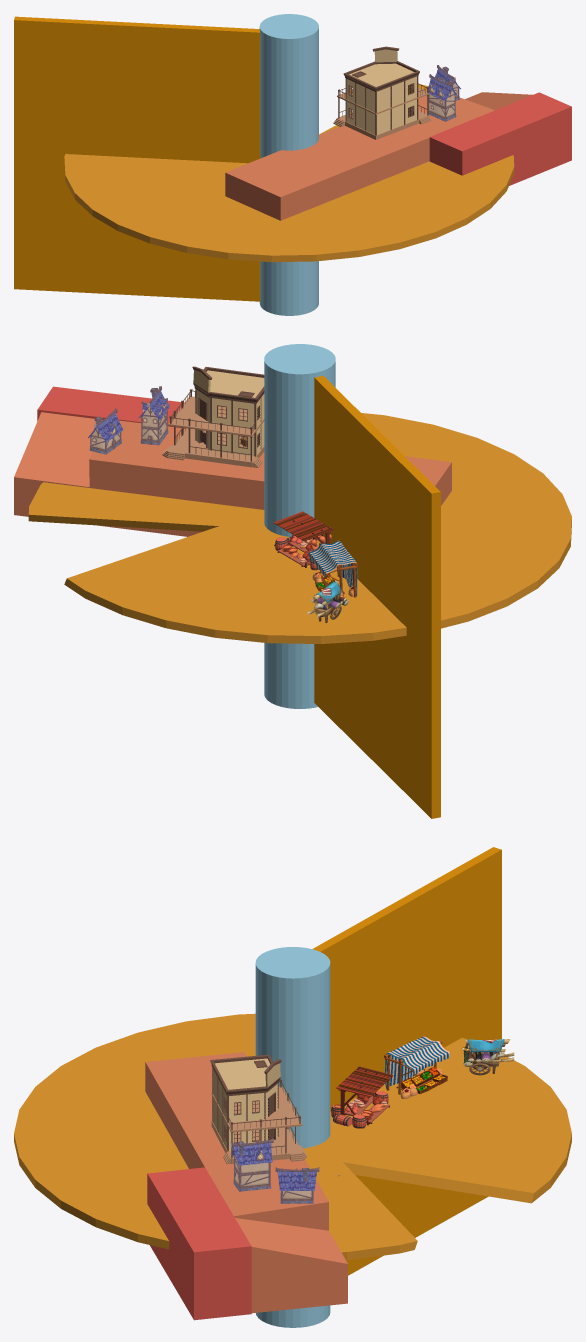
Rendered from dairon.glb.
3 renders of one model, top to bottom at view 1: azimuth 30°, elevation 25°; view 2: azimuth 150°, elevation 25°; view 3: azimuth 270°, elevation 25°, orthographic. The views are drawn at different scales.
Visible parts, largest first — view 1: Cube, Cylinder, Cube.001, Cylinder.001, Cube.002, OldalLec, Teto, AblakosOldalLec, Talaj; view 2: Cylinder, Cube, Cube.001, Cylinder.001, Cube.002, Teto, Cylinder.054, Cube.057, Talaj, AblakosOldalLec, Emelet, Object_2 (+1 smaller); view 3: Cylinder, Cube, Cube.001, Cylinder.001, Cube.002, Cube.057, Cylinder.054, Teto, Emelet, Object_2, AblakosOldalLec, Talaj (+2 smaller).
Boxes of the visible parts, left/top/right/bottom form: Cube: left=14, top=16, right=260, bottom=301; Cylinder: left=64, top=84, right=514, bottom=262; Cube.001: left=225, top=92, right=532, bottom=220; Cylinder.001: left=259, top=14, right=318, bottom=315; Cube.002: left=429, top=92, right=571, bottom=185; OldalLec: left=356, top=81, right=403, bottom=134; Teto: left=343, top=46, right=419, bottom=91; AblakosOldalLec: left=346, top=76, right=416, bottom=125; Talaj: left=333, top=108, right=431, bottom=139; Cylinder: left=28, top=413, right=571, bottom=643; Cube: left=314, top=375, right=440, bottom=818; Cube.001: left=14, top=412, right=451, bottom=536; Cylinder.001: left=264, top=344, right=335, bottom=708; Cube.002: left=37, top=386, right=185, bottom=428; Teto: left=192, top=366, right=264, bottom=403; Cylinder.054: left=273, top=511, right=333, bottom=570; Cube.057: left=308, top=540, right=357, bottom=597; Talaj: left=162, top=428, right=264, bottom=467; AblakosOldalLec: left=212, top=398, right=260, bottom=456; Emelet: left=168, top=396, right=264, bottom=436; Object_2: left=307, top=581, right=348, bottom=622; Cylinder: left=14, top=1013, right=571, bottom=1260; Cube: left=312, top=847, right=501, bottom=1275; Cube.001: left=145, top=1052, right=347, bottom=1313; Cylinder.001: left=255, top=947, right=330, bottom=1327; Cube.002: left=147, top=1167, right=251, bottom=1320; Cube.057: left=384, top=1035, right=450, bottom=1098; Cylinder.054: left=331, top=1066, right=392, bottom=1128; Teto: left=210, top=1054, right=281, bottom=1096; Emelet: left=211, top=1086, right=302, bottom=1132; Object_2: left=461, top=1039, right=514, bottom=1075; AblakosOldalLec: left=223, top=1089, right=264, bottom=1150; Talaj: left=211, top=1121, right=306, bottom=1164.
Size of what is drawn, in the model's own units: 17.12 by 10.29 by 14.9.
19 materials, 4 textured.
